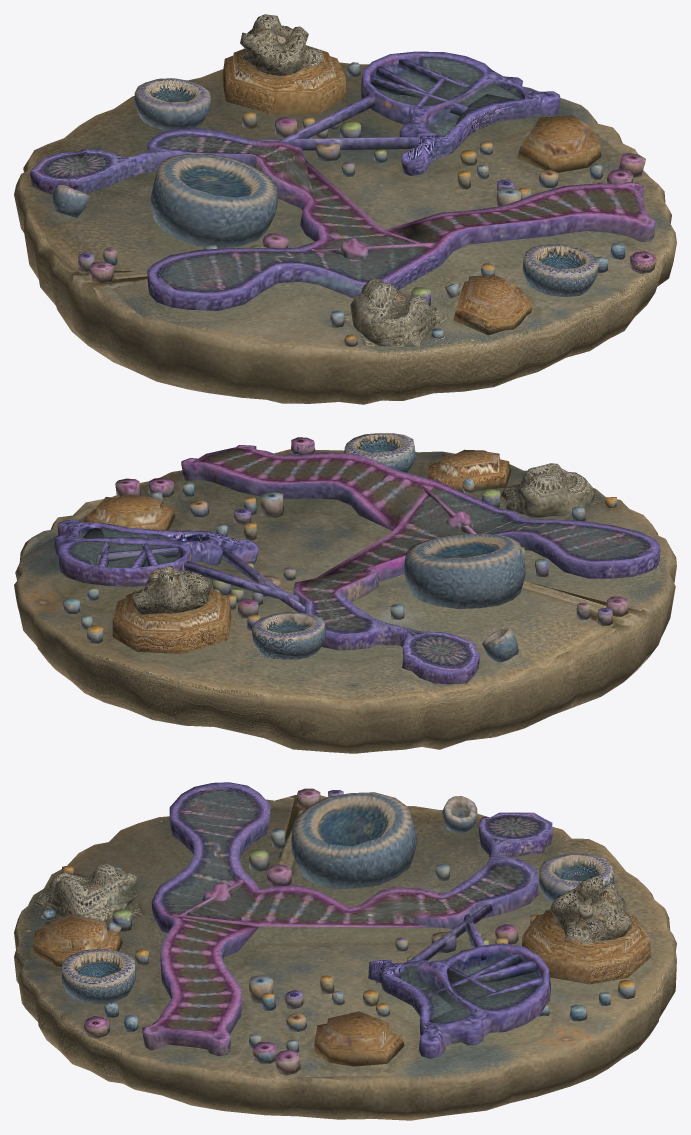
File: rna-world-tripo.glb
3 views of the same model, one above another, from view 1: azimuth 30°, elevation 25°; view 2: azimuth 150°, elevation 25°; view 3: azimuth 270°, elevation 25° (orthographic). The views are drawn at different scales.
Parts seen in each view (by area): view 1: tripo_node_390bc307-ed6a-439d-a580-fd2a4d571808; view 2: tripo_node_390bc307-ed6a-439d-a580-fd2a4d571808; view 3: tripo_node_390bc307-ed6a-439d-a580-fd2a4d571808.
Boxes of the visible parts, bbox=[...] form: tripo_node_390bc307-ed6a-439d-a580-fd2a4d571808: bbox=[14, 14, 676, 404]; tripo_node_390bc307-ed6a-439d-a580-fd2a4d571808: bbox=[14, 433, 676, 753]; tripo_node_390bc307-ed6a-439d-a580-fd2a4d571808: bbox=[14, 782, 676, 1120].
Bounding box in the file's own units: 0.998 × 0.2402 × 0.998.
Materials: 1 (1 with a texture image).
